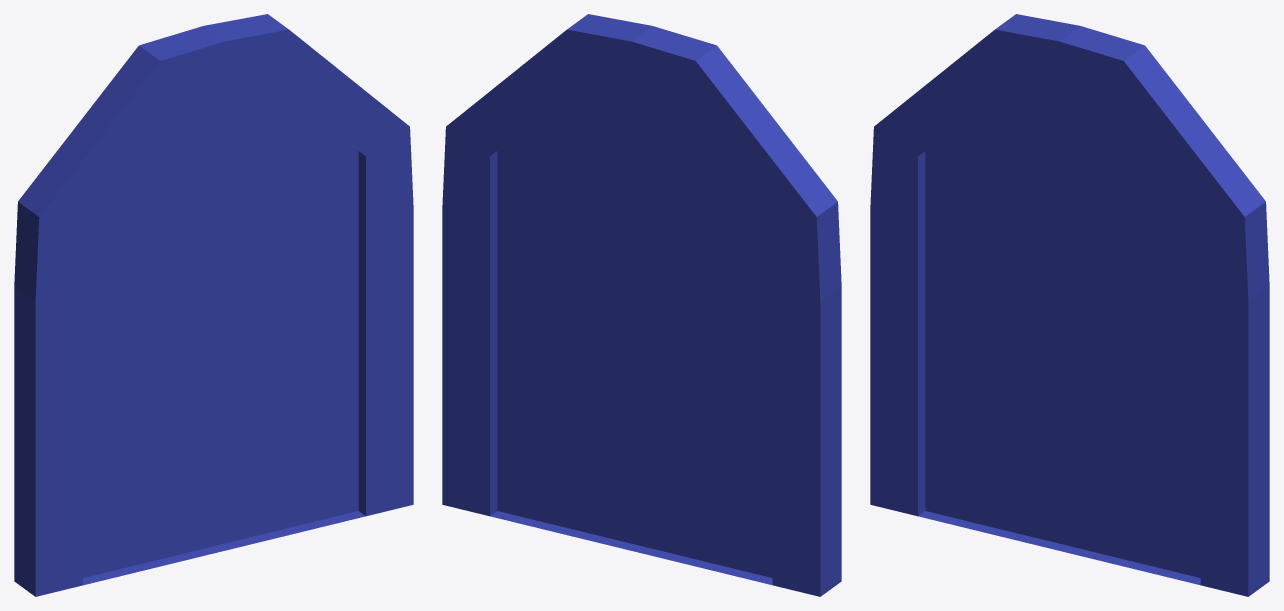
Rendered from doorTestV7.glb.
The picture shows the model from 3 angles, left to right: view 1: azimuth 30°, elevation 25°; view 2: azimuth 150°, elevation 25°; view 3: azimuth 330°, elevation 25°; orthographic projection.
Parts seen in each view (by area): view 1: doorAround, door.L, door.R; view 2: doorAround, door.L, door.R; view 3: doorAround, door.R, door.L.
Boxes of the visible parts, x1,y1,x2,y2 form: doorAround: [14, 14, 413, 596]; door.L: [217, 80, 358, 545]; door.R: [83, 93, 217, 577]; doorAround: [442, 14, 841, 596]; door.L: [497, 80, 638, 545]; door.R: [638, 93, 772, 577]; doorAround: [870, 14, 1269, 596]; door.R: [925, 80, 1066, 545]; door.L: [1066, 93, 1200, 577].
Size of the model in its own units: 2.67 by 3.44 by 0.2605.
